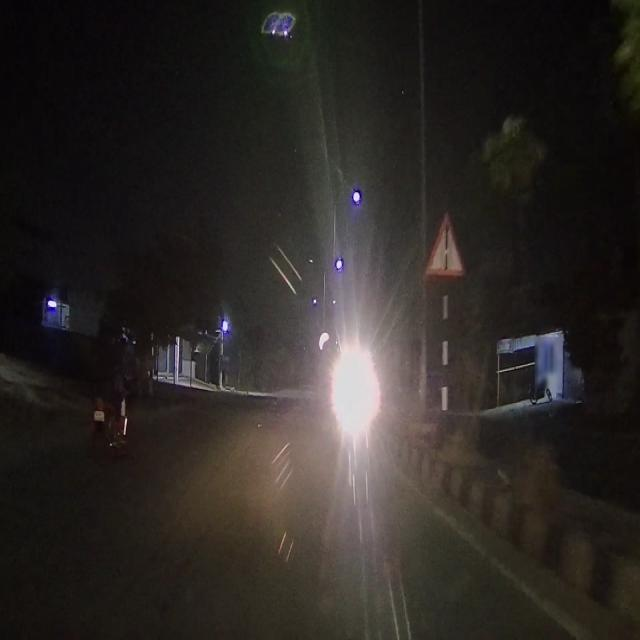gap-in-median: (418, 204, 462, 281)
